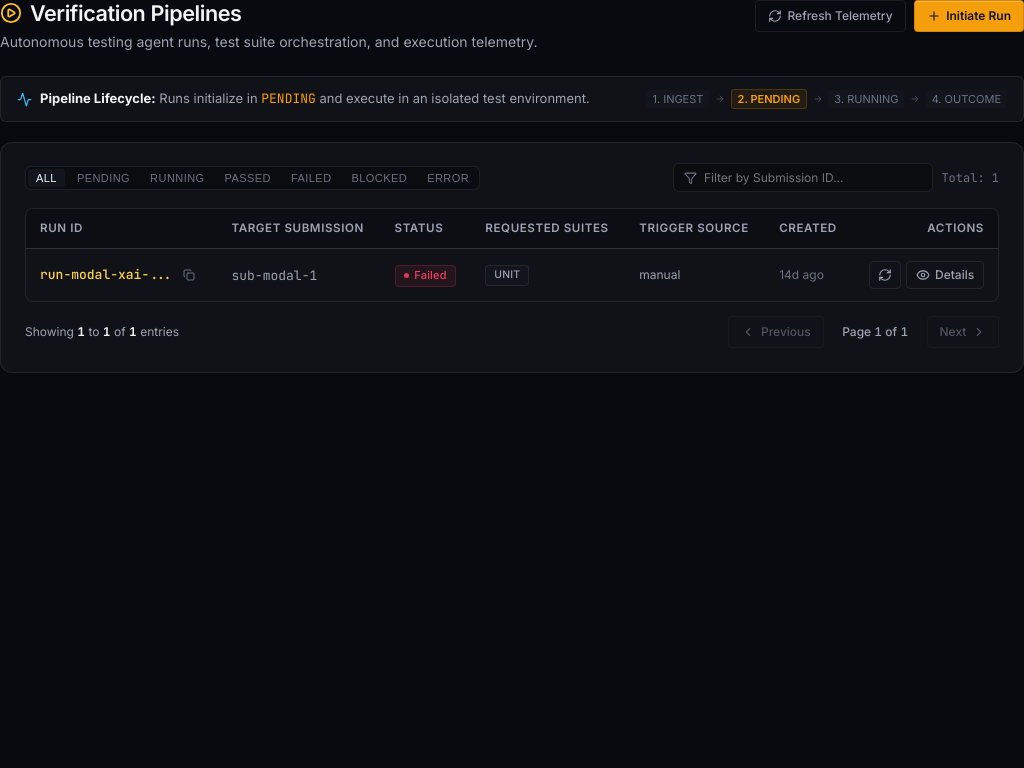
Scenario: Human-Facing XAI Explanations UI › does not render post-delivery XAI inside a failed verification modal
The width and height of the screenshot is (1024, 768).
Note: Open detail modal
Click the button "Details" at [945, 275], box [906,261,984,289]
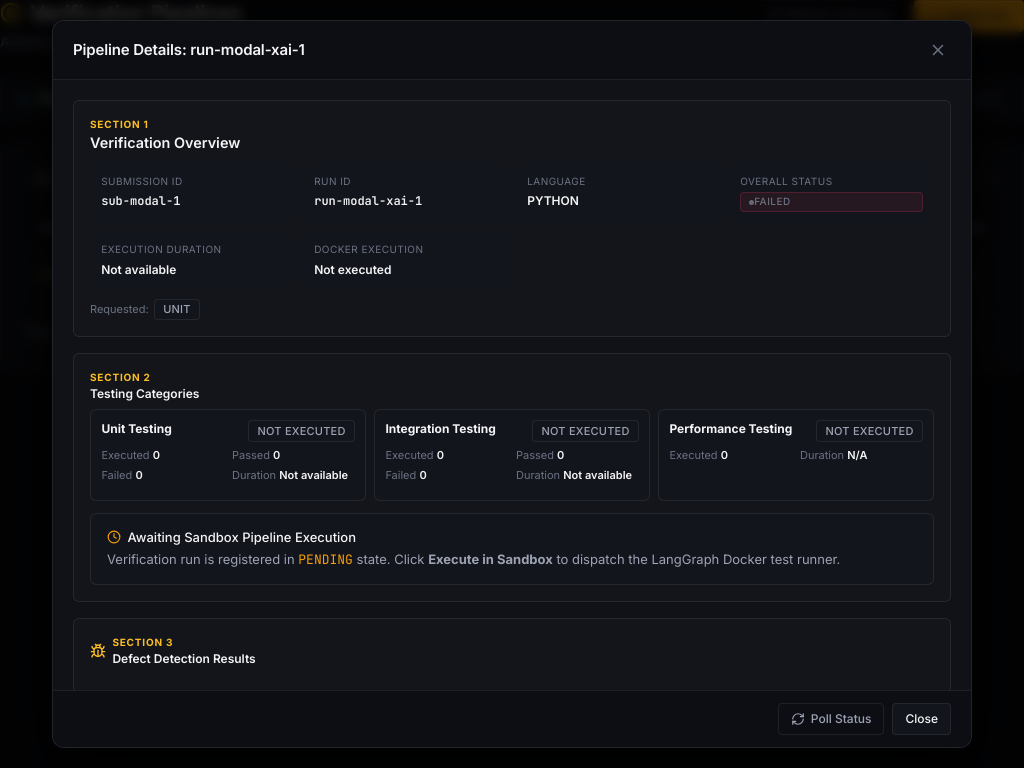
Result: the heading "Pipeline Details: run-modal-xai-1" is shown at [73,41,305,59]
